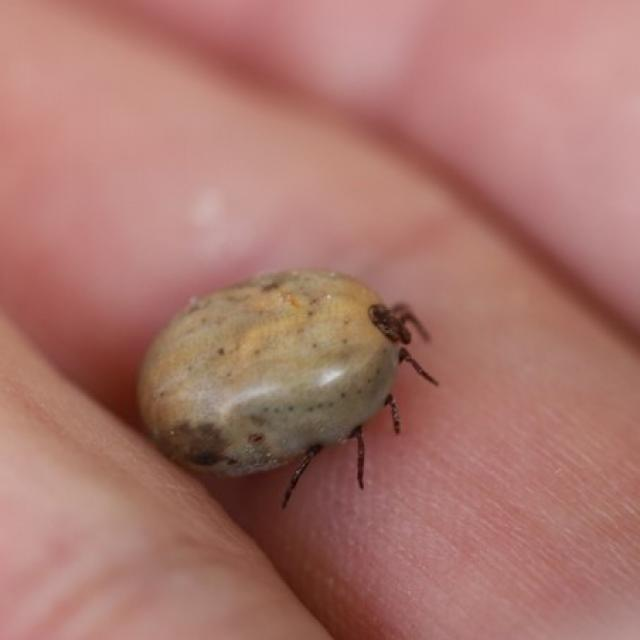Dermacentor Reticulatus-F-Fed: (137, 270, 440, 510)
